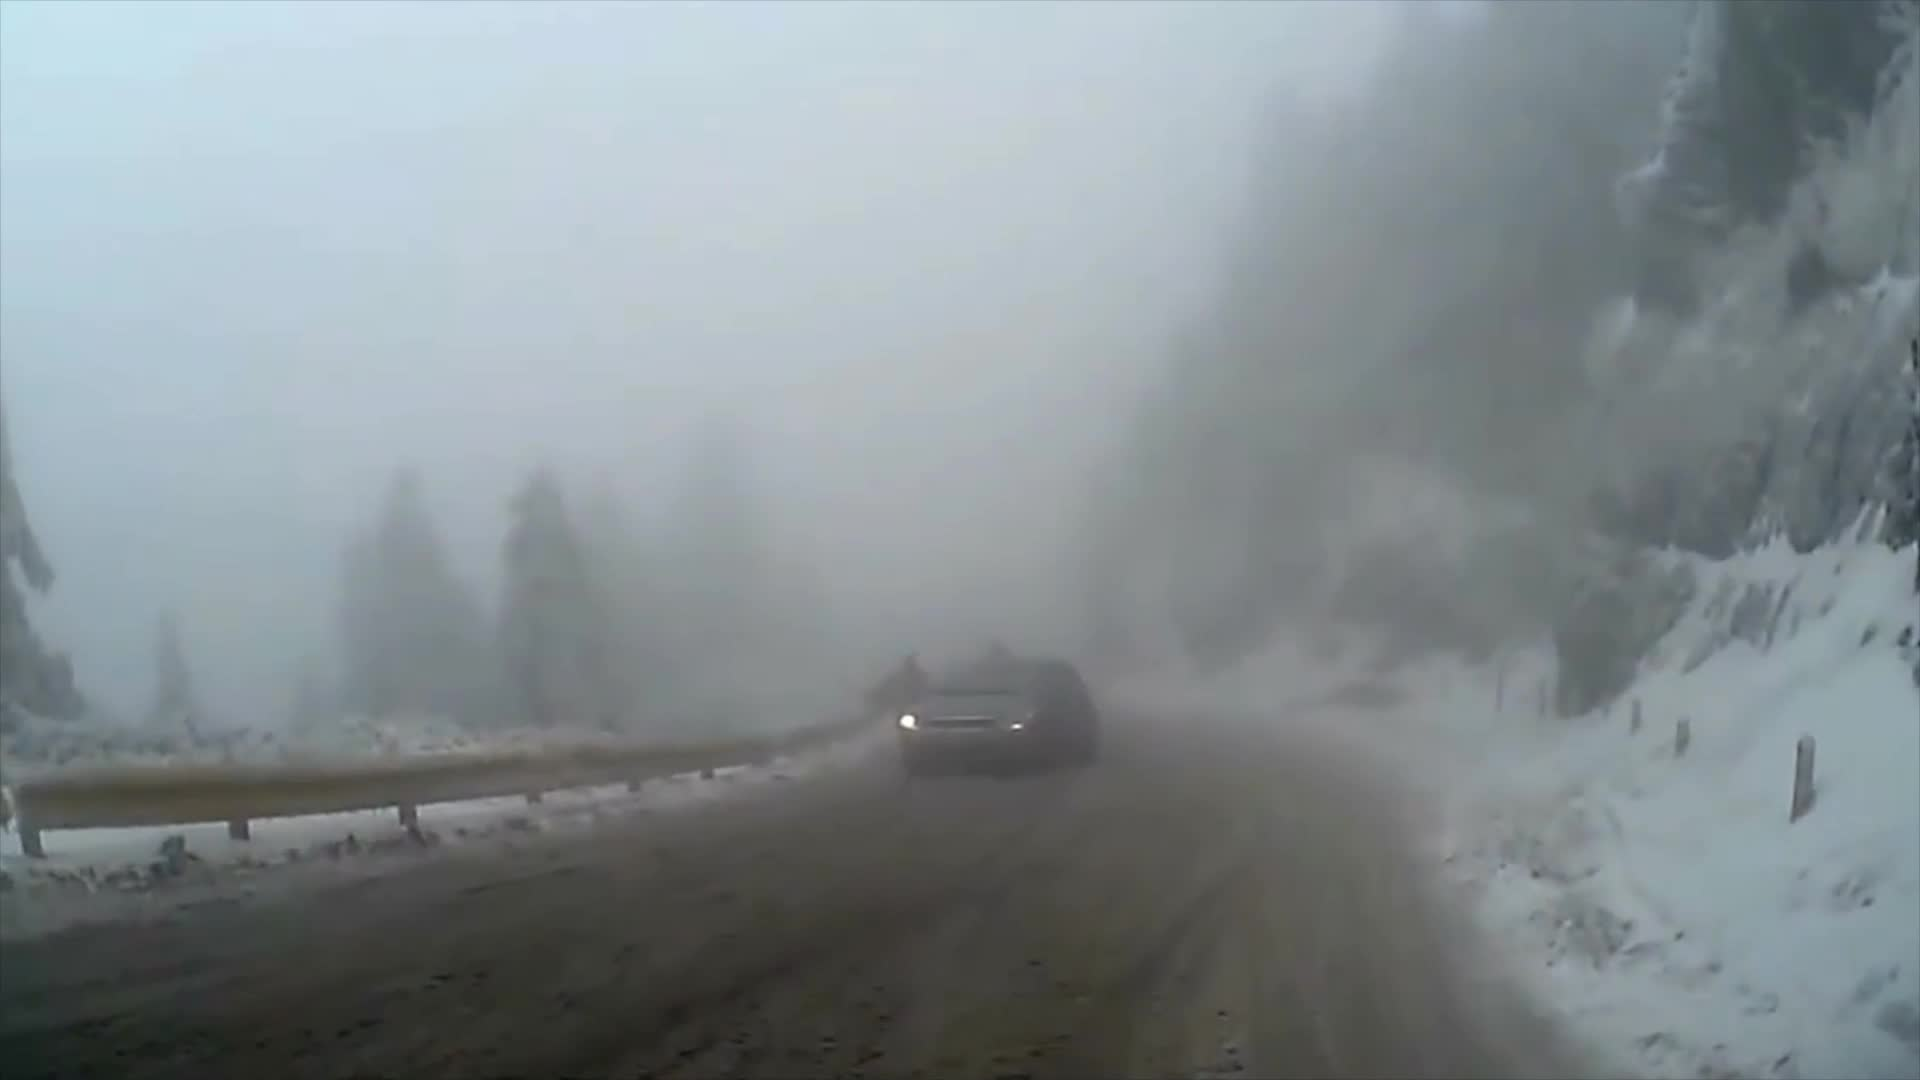vehicle: (893, 651, 1098, 778)
